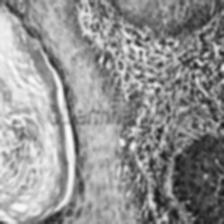Non-Cancerous Skin Condition: (11, 0, 224, 101), (4, 131, 224, 224)
